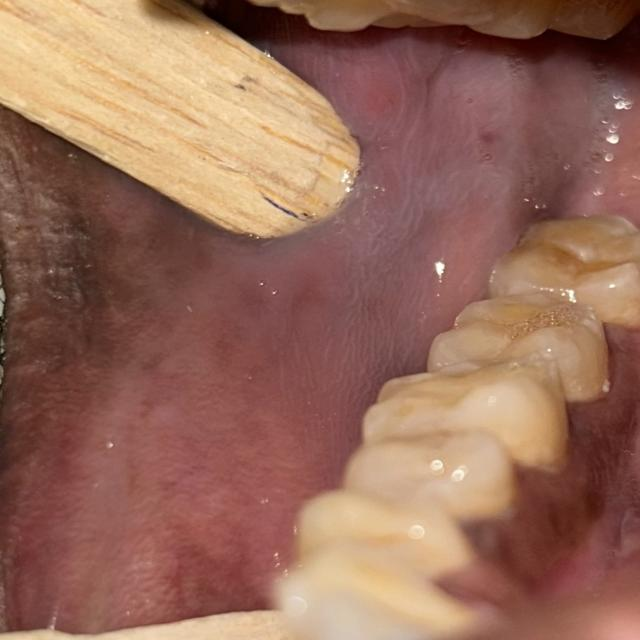leukoplakia-like-detection: (87, 40, 639, 613)
processing_area: (50, 41, 639, 620)
